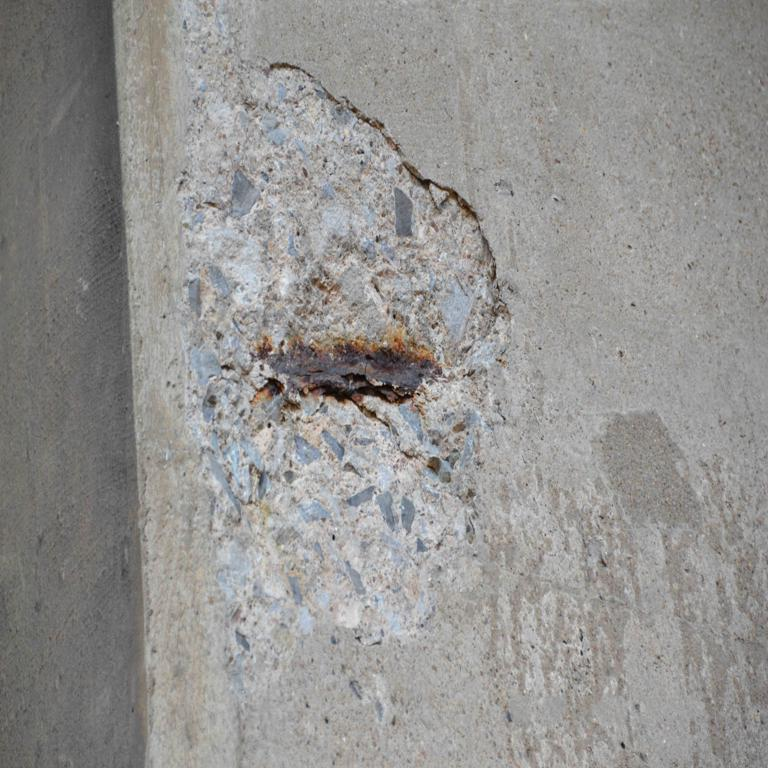exposed_rebar: (260, 338, 441, 402)
spalling: (180, 57, 506, 656)
